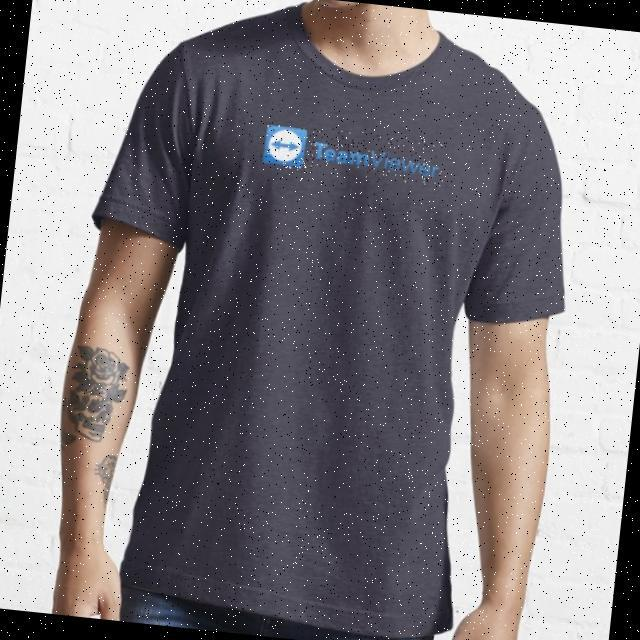TeamViewer: (263, 122, 447, 186)
